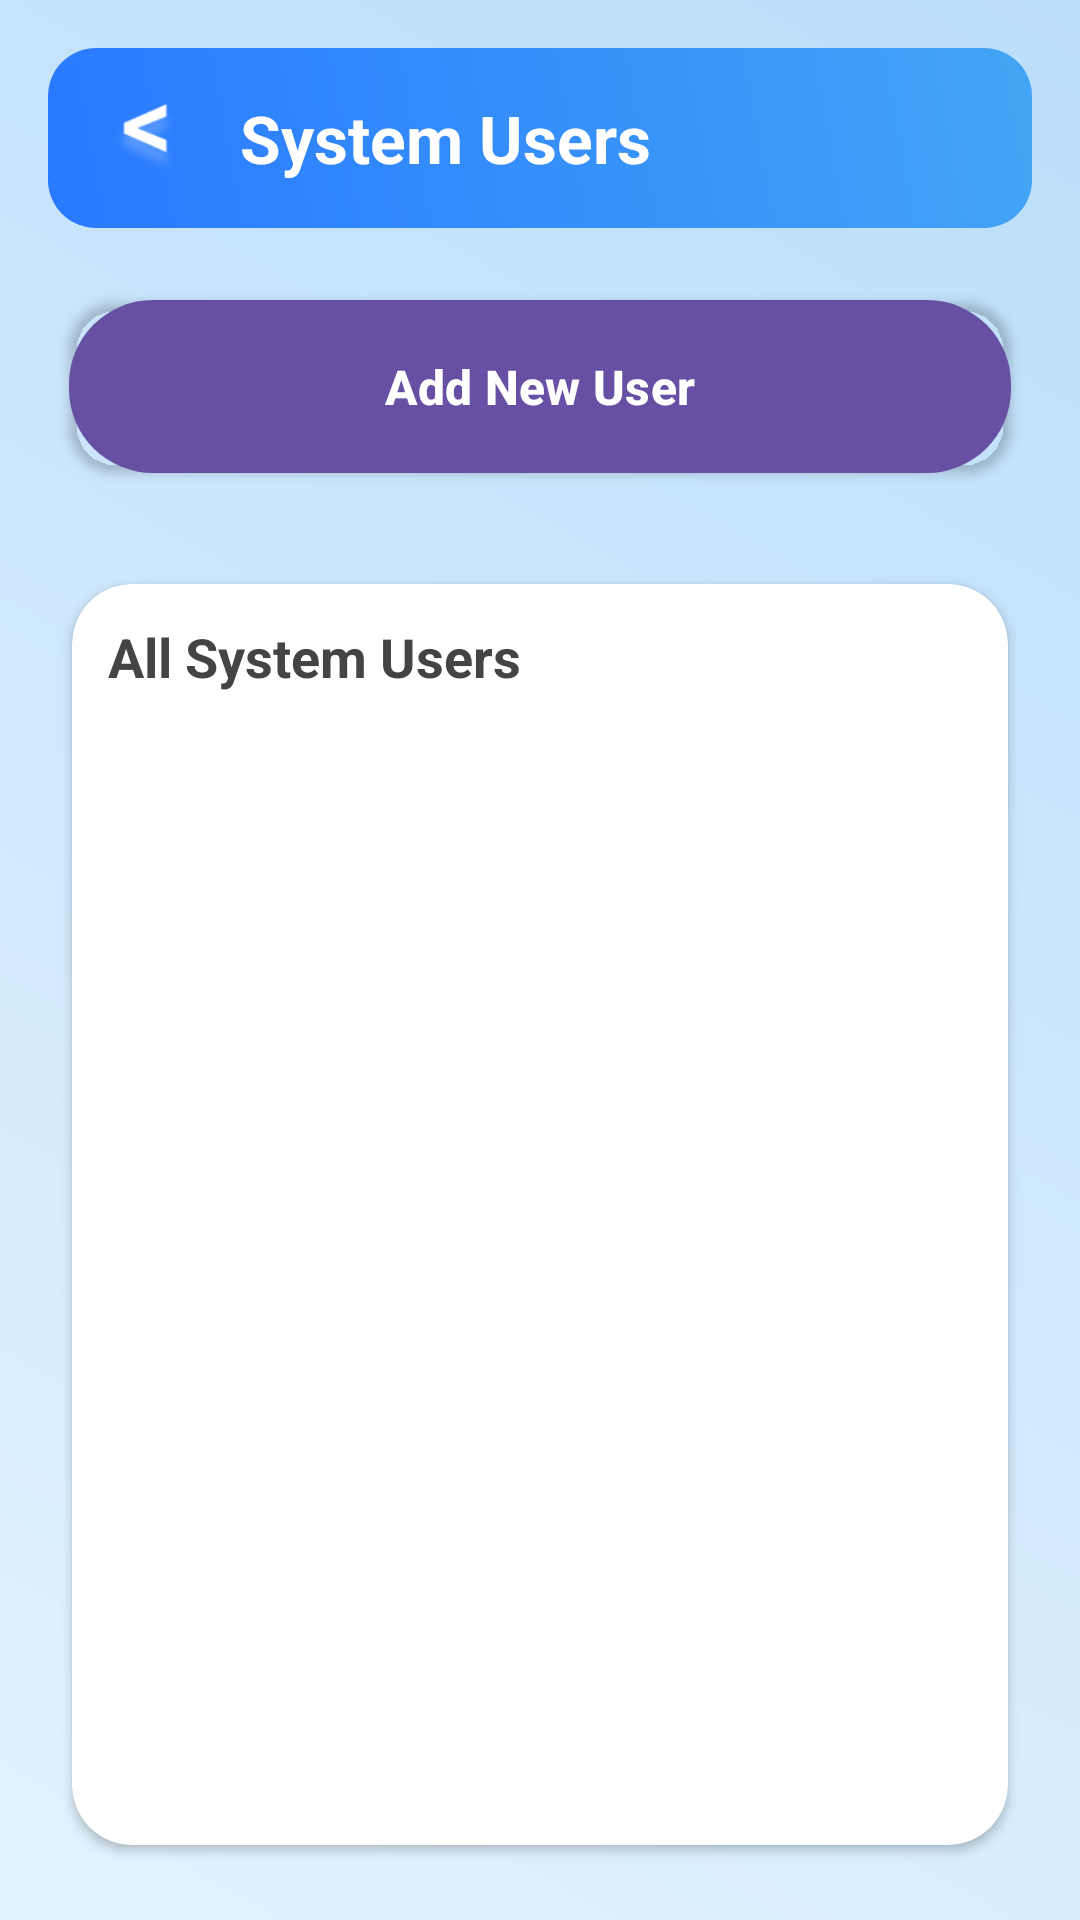

Where to tap for icons on this 1080px x 1920px app screen, as point (x, y):
Back: point (145, 132)
